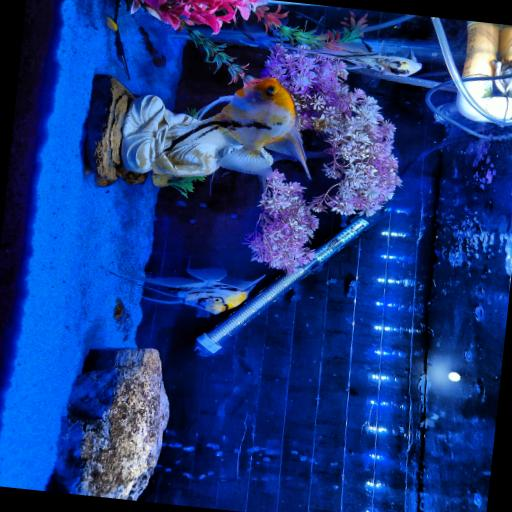Fish: (198, 77, 310, 177), (130, 268, 264, 315), (283, 41, 421, 75), (106, 16, 129, 79)
